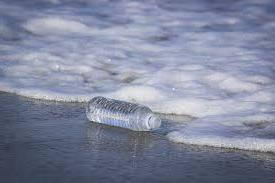Plastic: (77, 89, 169, 141)
